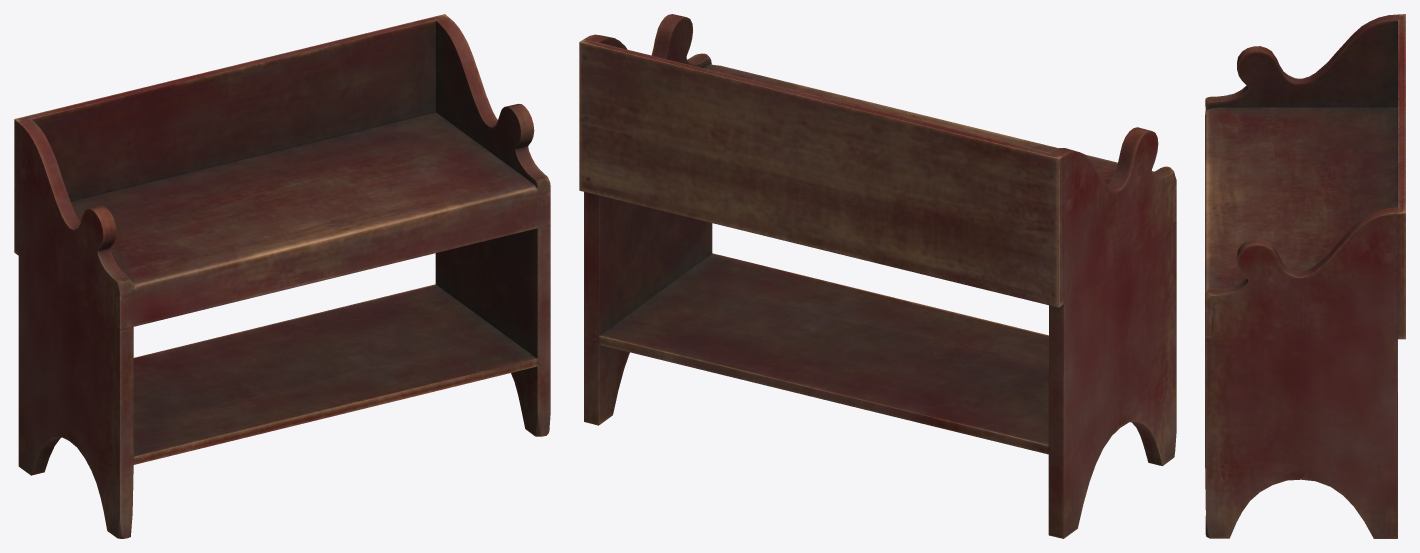
The model's file is painted_wooden_bench.gltf.
3 renders of one model, left to right at view 1: azimuth 30°, elevation 25°; view 2: azimuth 150°, elevation 25°; view 3: azimuth 270°, elevation 25°, orthographic. The views are drawn at different scales.
Visible parts, largest first — view 1: painted_wooden_bench; view 2: painted_wooden_bench; view 3: painted_wooden_bench.
Part boxes in pixels (x1=…): painted_wooden_bench: x1=14, y1=14, x2=550, y2=538; painted_wooden_bench: x1=579, y1=14, x2=1176, y2=538; painted_wooden_bench: x1=1205, y1=14, x2=1405, y2=538.
Size of the model in its own units: 1.16 by 0.8893 by 0.4965.
Materials: 1 (1 with a texture image).
